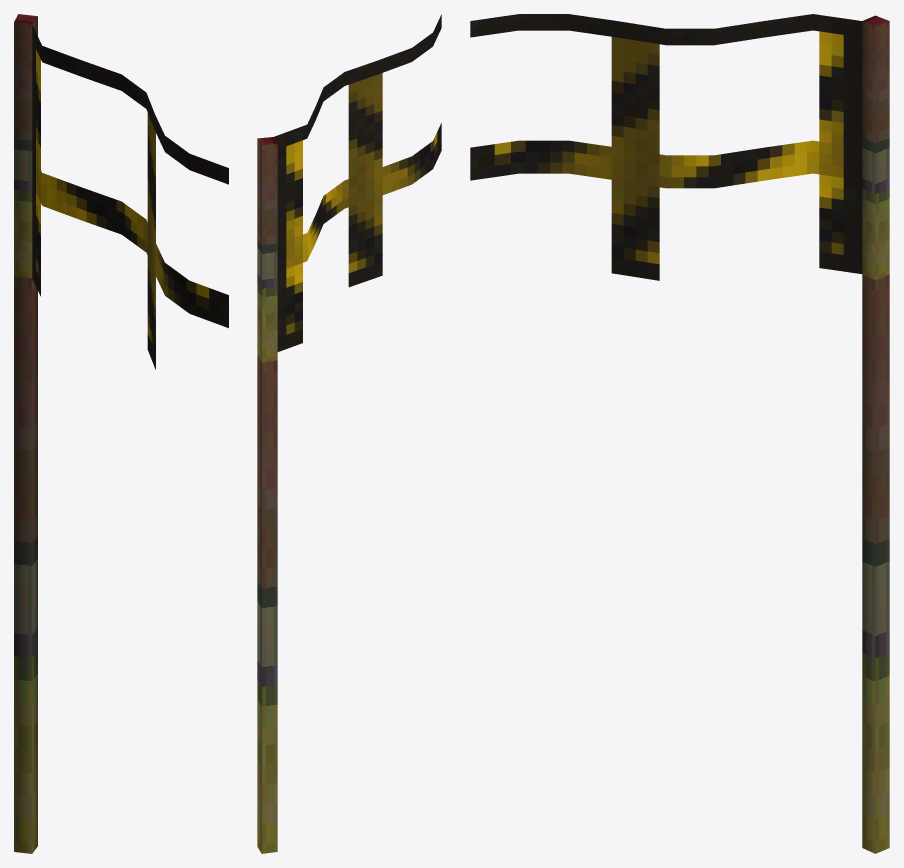
The picture shows the model from 3 angles, left to right: view 1: azimuth 30°, elevation 25°; view 2: azimuth 150°, elevation 25°; view 3: azimuth 270°, elevation 25°; orthographic projection. The views are drawn at different scales.
Parts seen in each view (by area): view 1: Ovmp_obj_028; view 2: Ovmp_obj_028; view 3: Ovmp_obj_028.
Boxes of the visible parts, x1,y1,x2,y2 form: Ovmp_obj_028: (14,14,228,853); Ovmp_obj_028: (257,14,441,853); Ovmp_obj_028: (470,14,889,853).
Bounding box in the file's own units: 0.0566 × 1.49 × 0.6836.
2 materials, 2 textured.
